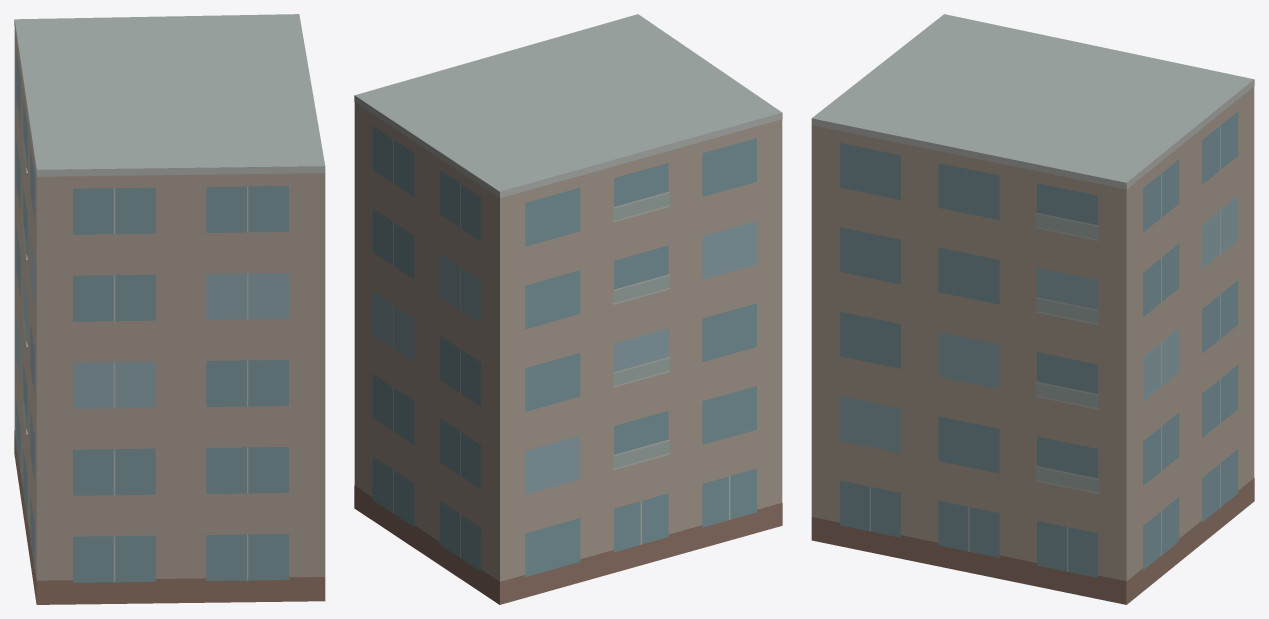
Rendered from survey-upis-33013593.glb.
3 views of the same model, side by side, from view 1: azimuth 30°, elevation 25°; view 2: azimuth 150°, elevation 25°; view 3: azimuth 270°, elevation 25° (orthographic). The views are drawn at different scales.
Visible parts, largest first — view 1: survey-upis-33013593.tmp; view 2: survey-upis-33013593.tmp; view 3: survey-upis-33013593.tmp.
Boxes of the visible parts, x1,y1,x2,y2 form: survey-upis-33013593.tmp: (14,14,325,604); survey-upis-33013593.tmp: (354,14,782,604); survey-upis-33013593.tmp: (811,14,1254,604).
Size of the model in its own units: 13.09 by 15.25 by 14.51.
